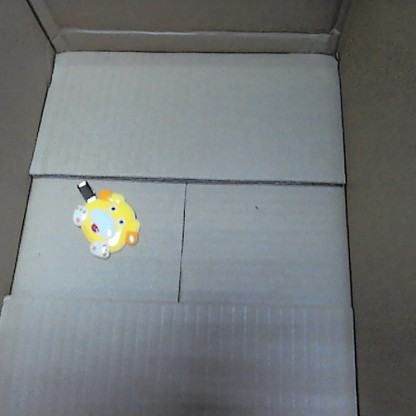dogclip: (68, 178, 142, 259)
